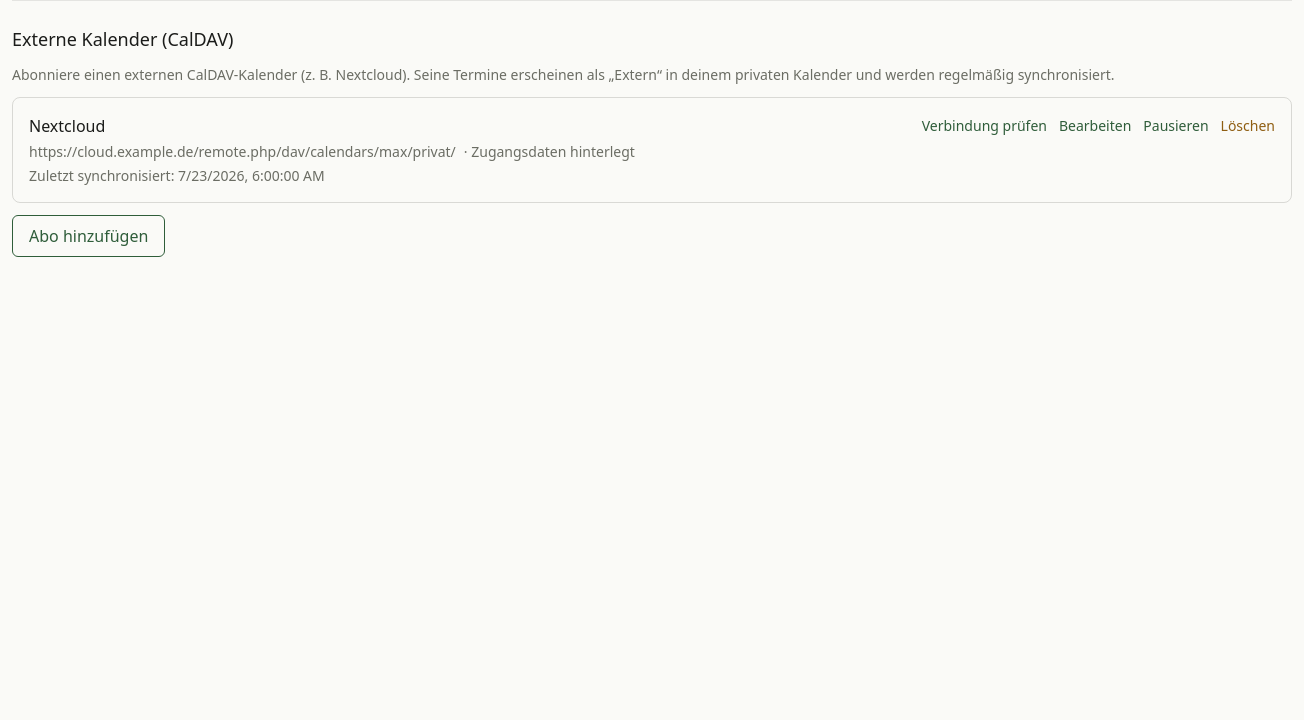
Test: a duplicate answers with the exists message
Click the button "Abo hinzufügen" at (89, 236), box [12,215,165,257]
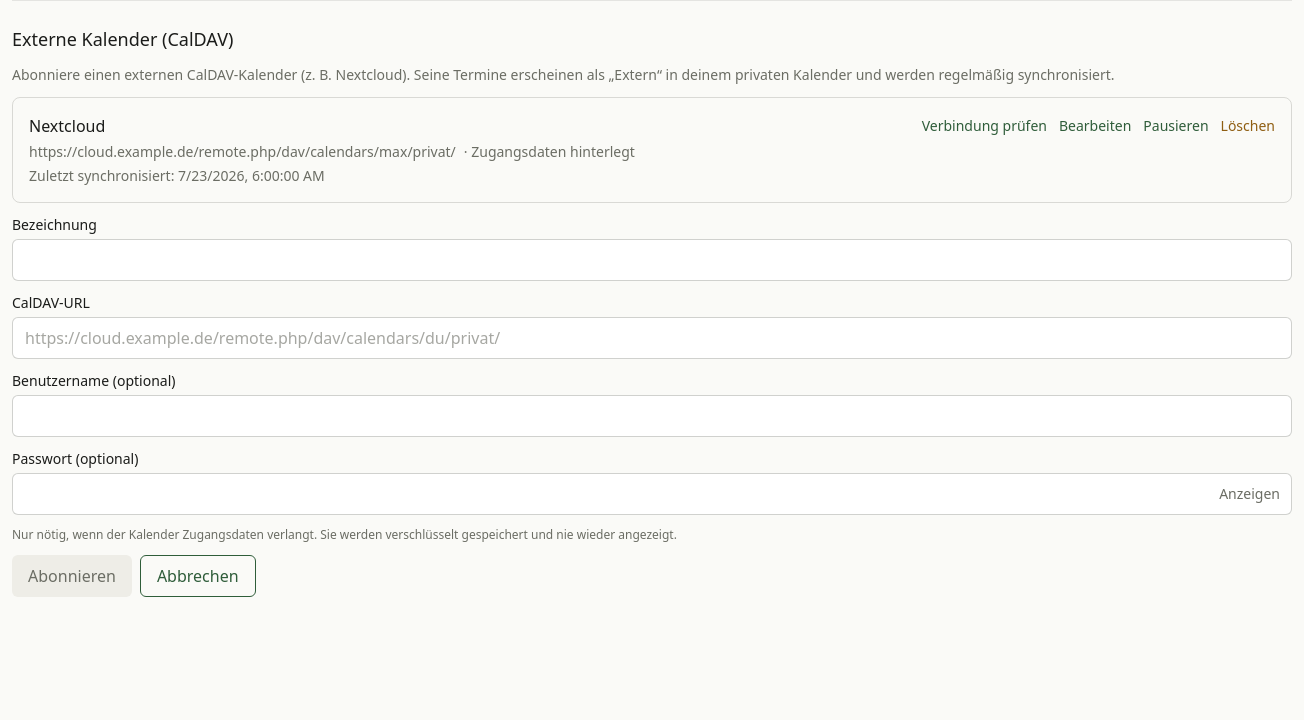
Type "Neu" into the field labelled "Bezeichnung" at (652, 260), box [12,239,1292,281]
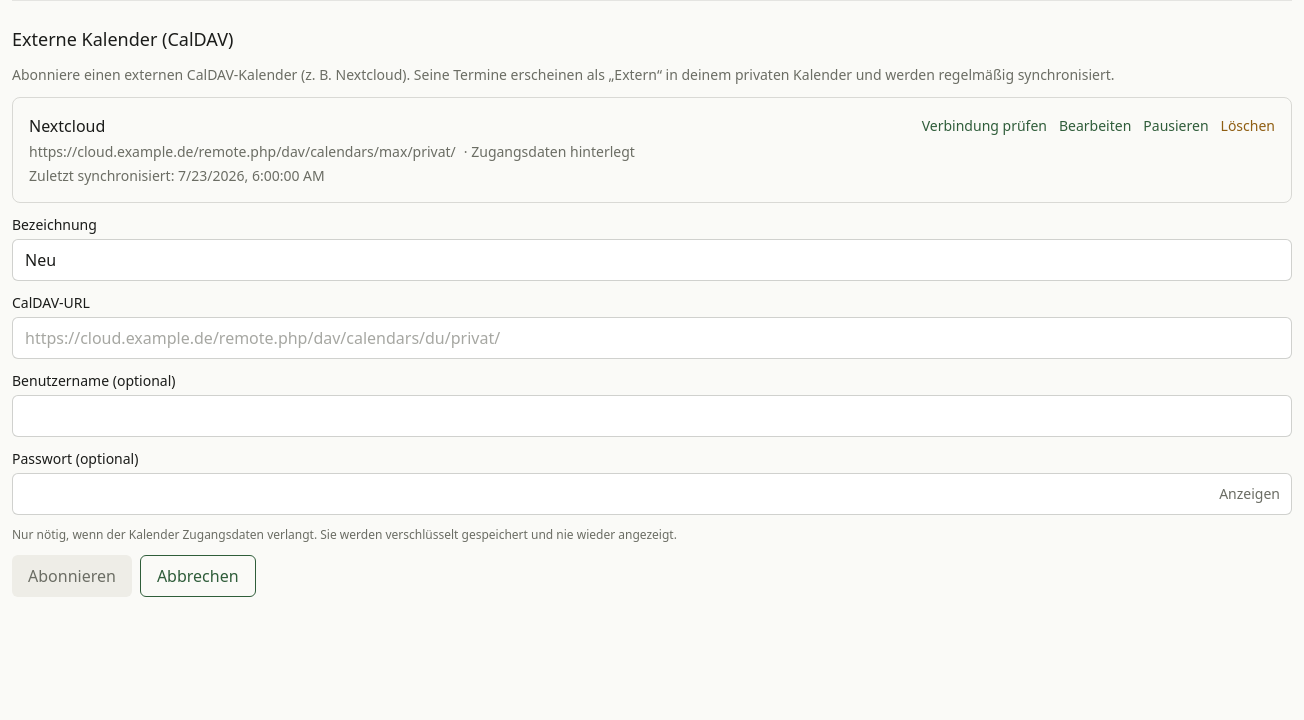
Type "https://cal.example.org/dav/" into the field labelled "CalDAV-URL" at (652, 338), box [12,317,1292,359]
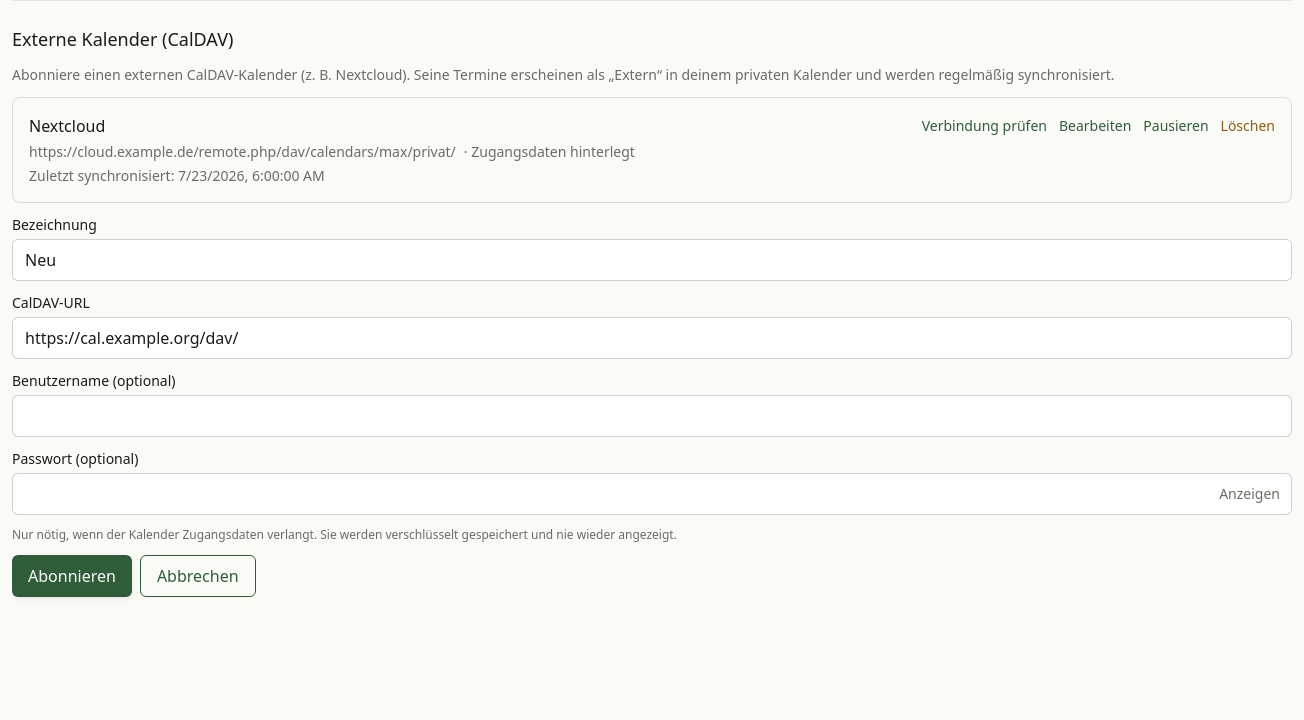
Click the button "Abonnieren" at (72, 576), box [12,555,132,597]
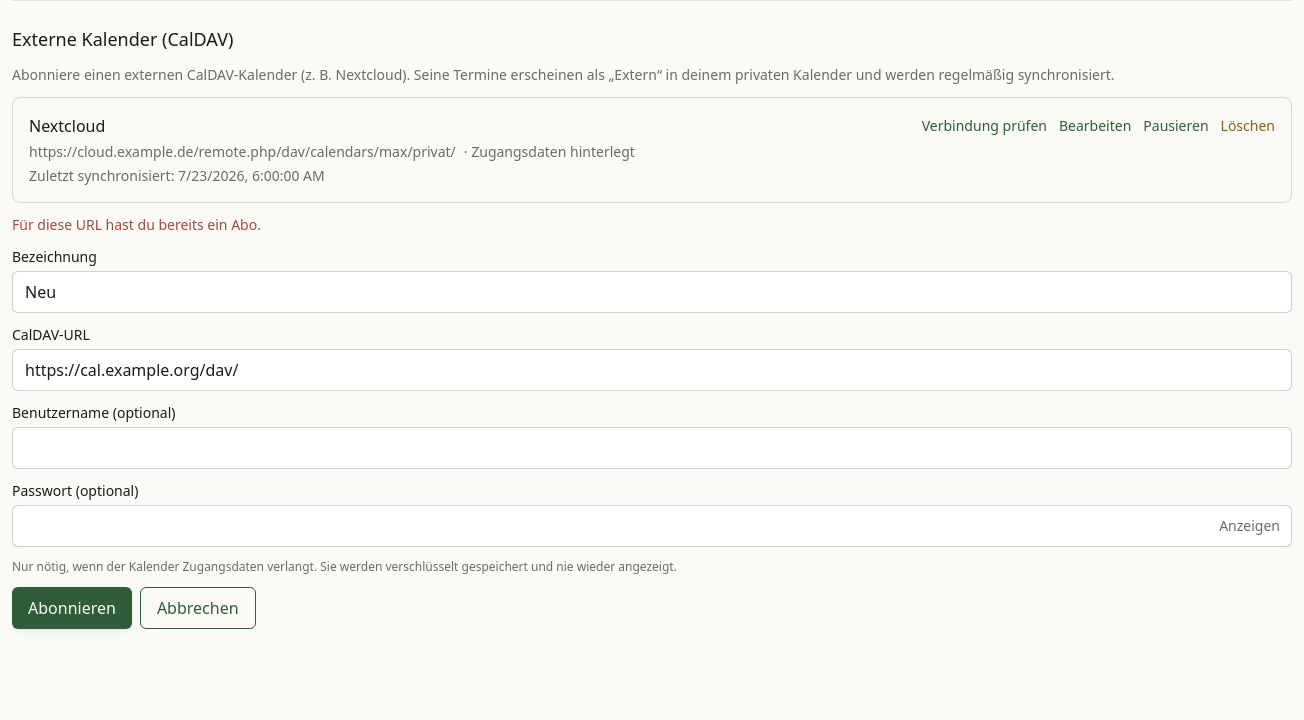
Expected: the message reads "Für diese URL hast du bereits ein Abo.", [12,215,261,234]
